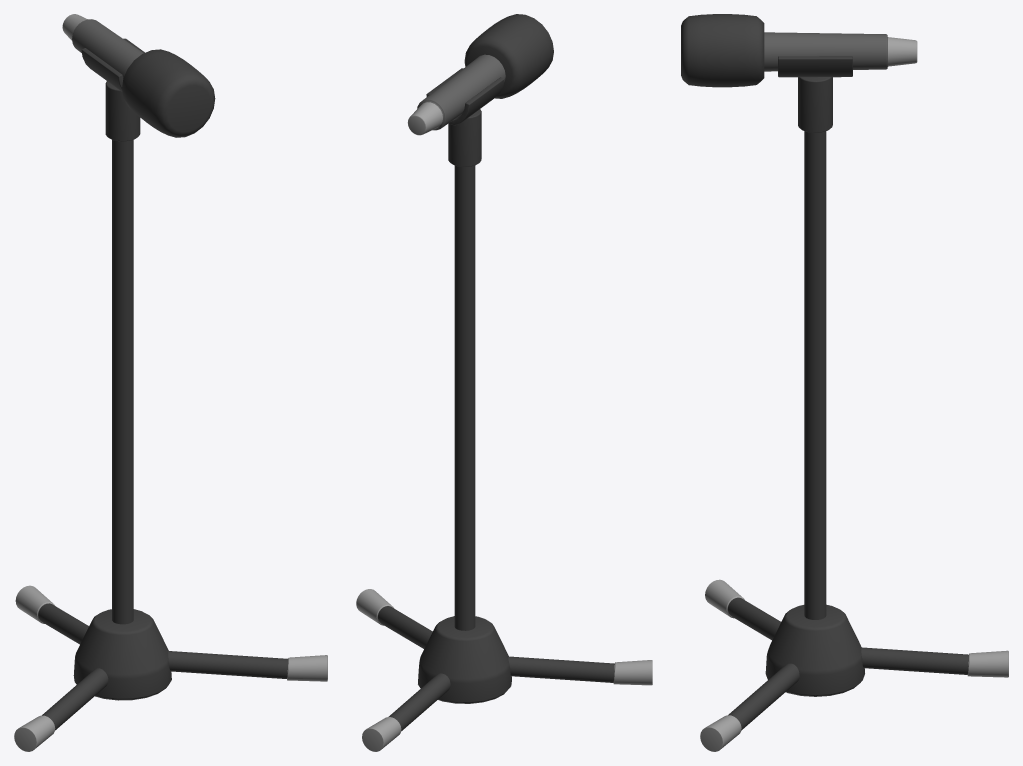
File: Store_13_Microphone_2.glb
3 views of the same model, side by side, from view 1: azimuth 30°, elevation 25°; view 2: azimuth 150°, elevation 25°; view 3: azimuth 270°, elevation 25° (orthographic). The views are drawn at different scales.
Visible parts, largest first — view 1: Store_13_Microphone_2; view 2: Store_13_Microphone_2; view 3: Store_13_Microphone_2.
Part boxes in pixels (x1,y1,x2,y2): Store_13_Microphone_2: [14, 14, 327, 751]; Store_13_Microphone_2: [356, 14, 652, 751]; Store_13_Microphone_2: [681, 14, 1008, 751].
Bounding box in the file's own units: 1.22 × 2.45 × 1.11.
1 material, 1 textured.
